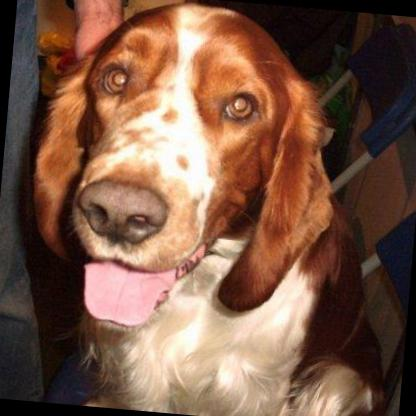Welsh_springer_spaniel: (11, 0, 408, 416)
